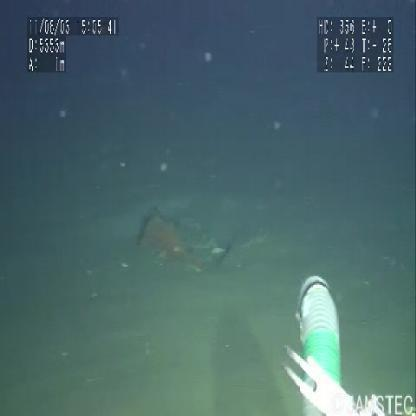Rác: (140, 209, 190, 259)
